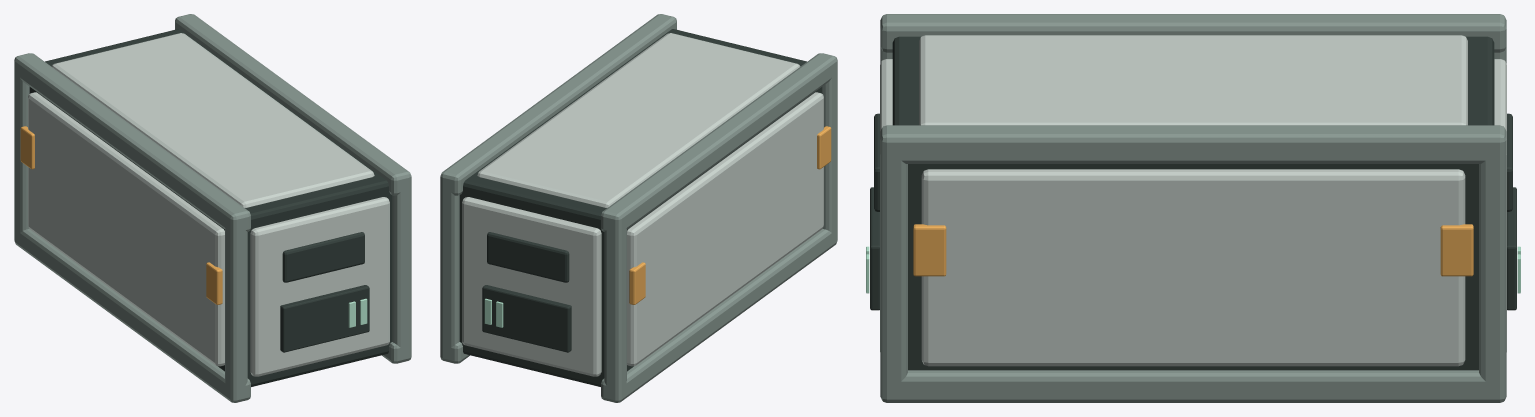
The model's file is 2-sbu.glb.
3 views of the same model, side by side, from view 1: azimuth 30°, elevation 25°; view 2: azimuth 150°, elevation 25°; view 3: azimuth 270°, elevation 25° (orthographic). The views are drawn at different scales.
Parts seen in each view (by area): view 1: Side panel.002, Top inset.001, End panel.003, Stacking rail.005, Armored body.001, Stacking rail.007, Stacking rail.004, Corner extrusion.005, Manifest plate.003, Corner extrusion.007, Recessed lifting grip.003, Corner extrusion.004 (+2 smaller); view 2: Side panel.002, Top inset.001, End panel.002, Stacking rail.005, Armored body.001, Stacking rail.007, Stacking rail.004, Corner extrusion.004, Manifest plate.002, Corner extrusion.006, Recessed lifting grip.002, Corner extrusion.005 (+2 smaller); view 3: Side panel.003, Top inset.001, Stacking rail.007, Stacking rail.006, Armored body.001, Stacking rail.005, Corner extrusion.006, Corner extrusion.007, Latch plate.006, Latch plate.007, End panel.002, End panel.003 (+4 smaller).
Part boxes in pixels (x1=…): Side panel.002: x1=28, y1=92, x2=224, y2=366; Top inset.001: x1=51, y1=33, x2=374, y2=207; End panel.003: x1=250, y1=197, x2=389, y2=376; Stacking rail.005: x1=20, y1=53, x2=250, y2=231; Armored body.001: x1=29, y1=29, x2=392, y2=386; Stacking rail.007: x1=175, y1=16, x2=404, y2=195; Stacking rail.004: x1=19, y1=229, x2=250, y2=401; Corner extrusion.005: x1=225, y1=208, x2=247, y2=402; Manifest plate.003: x1=280, y1=285, x2=369, y2=352; Corner extrusion.007: x1=392, y1=168, x2=411, y2=362; Recessed lifting grip.003: x1=282, y1=232, x2=364, y2=282; Corner extrusion.004: x1=14, y1=54, x2=31, y2=247; Side panel.002: x1=627, y1=92, x2=823, y2=366; Top inset.001: x1=477, y1=33, x2=800, y2=207; End panel.002: x1=462, y1=197, x2=601, y2=376; Stacking rail.005: x1=601, y1=53, x2=836, y2=231; Armored body.001: x1=459, y1=29, x2=822, y2=386; Stacking rail.007: x1=447, y1=16, x2=676, y2=195; Stacking rail.004: x1=601, y1=229, x2=836, y2=401; Corner extrusion.004: x1=604, y1=208, x2=626, y2=402; Manifest plate.002: x1=482, y1=285, x2=571, y2=352; Corner extrusion.006: x1=440, y1=168, x2=459, y2=362; Recessed lifting grip.002: x1=487, y1=232, x2=569, y2=282; Corner extrusion.005: x1=820, y1=54, x2=837, y2=247; Side panel.003: x1=921, y1=169, x2=1465, y2=366; Top inset.001: x1=919, y1=35, x2=1467, y2=125; Stacking rail.007: x1=880, y1=125, x2=1506, y2=163; Stacking rail.006: x1=901, y1=370, x2=1506, y2=402; Armored body.001: x1=892, y1=36, x2=1494, y2=370; Stacking rail.005: x1=880, y1=14, x2=1506, y2=52; Corner extrusion.006: x1=1479, y1=128, x2=1506, y2=402; Corner extrusion.007: x1=880, y1=128, x2=907, y2=402; Latch plate.006: x1=1440, y1=224, x2=1473, y2=276; Latch plate.007: x1=913, y1=224, x2=946, y2=276; End panel.002: x1=1494, y1=59, x2=1506, y2=351; End panel.003: x1=880, y1=59, x2=892, y2=351.
Bounding box in the file's own units: 0.564 × 0.54 × 1.19.
